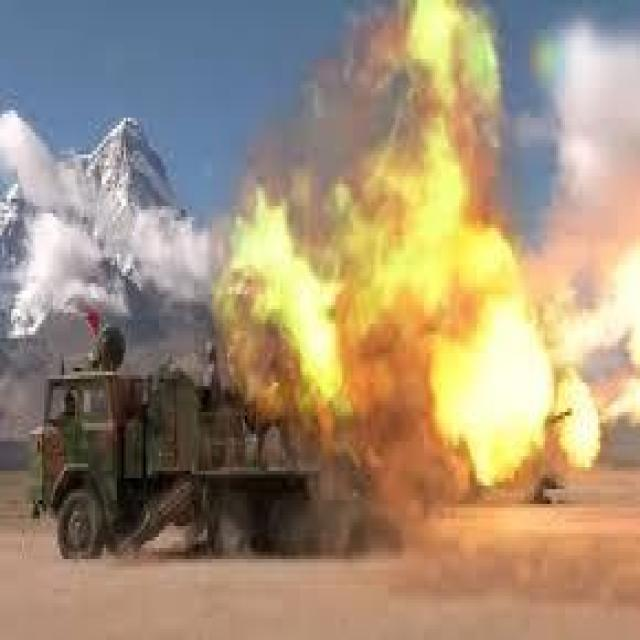Tanks: (33, 353, 362, 592)
